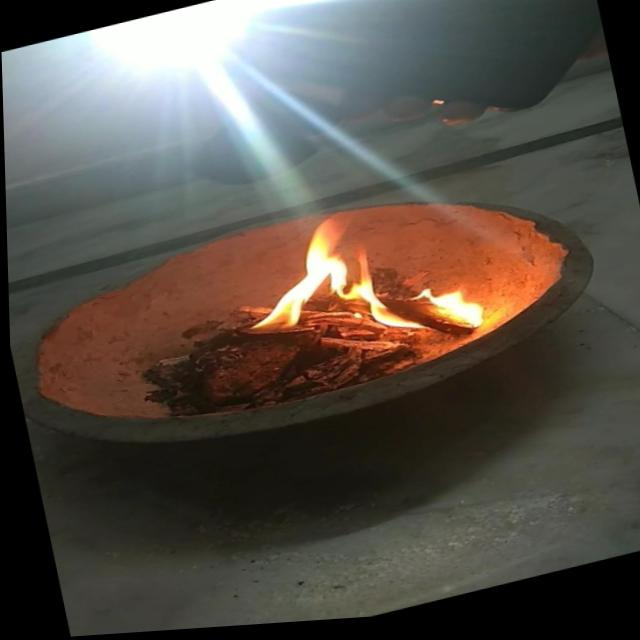fire: (225, 209, 415, 382), (409, 280, 495, 348)
